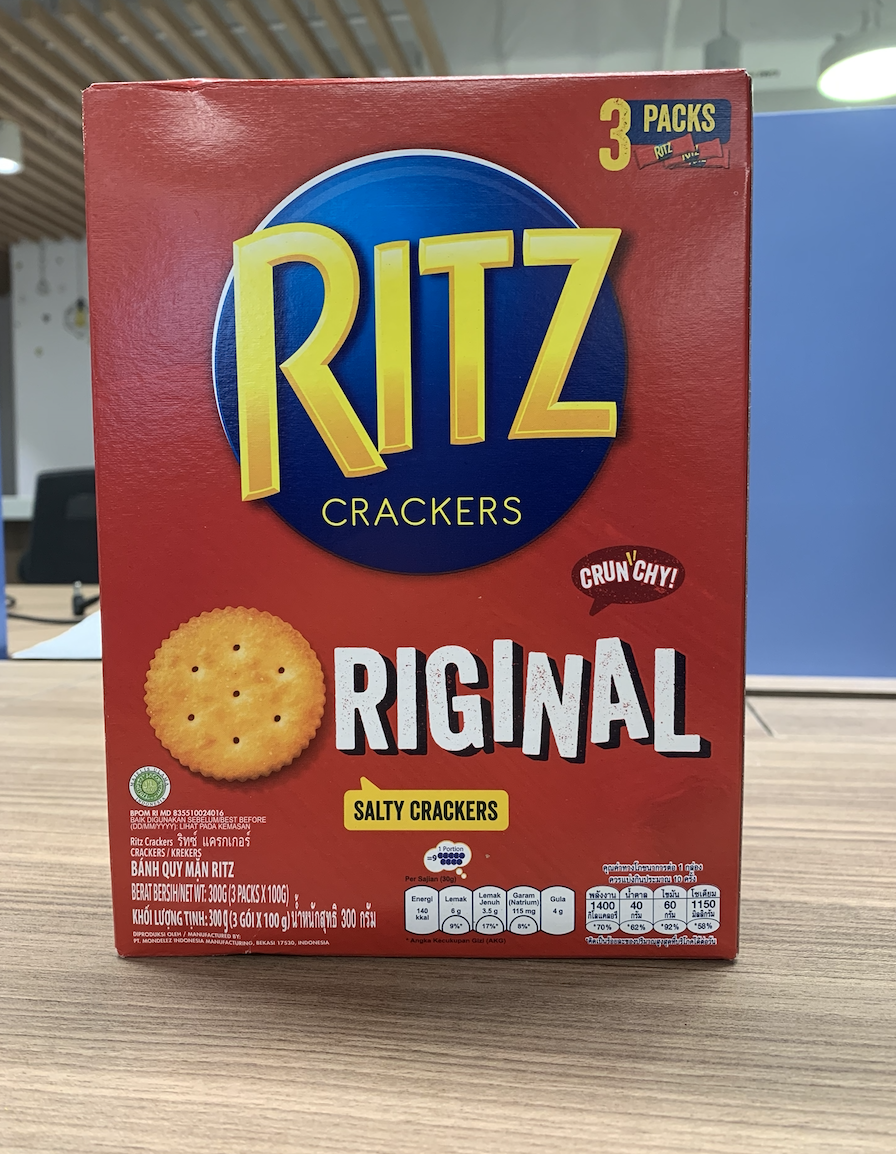crackers_300g-399g: (112, 94, 736, 956)
